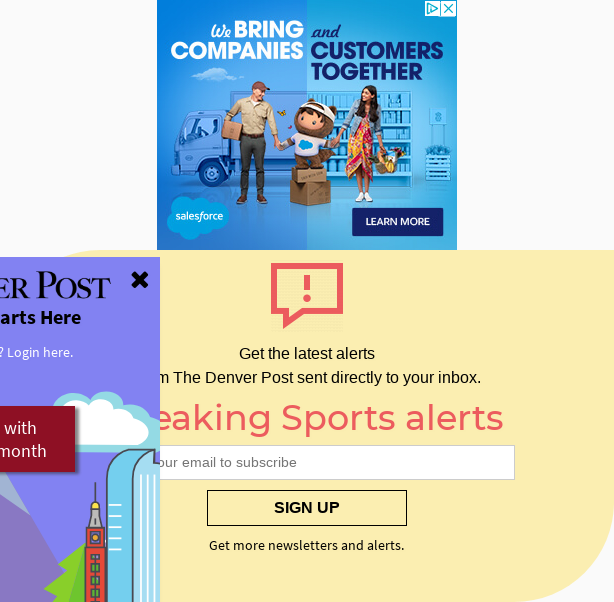fake_button: (198, 486, 413, 533)
